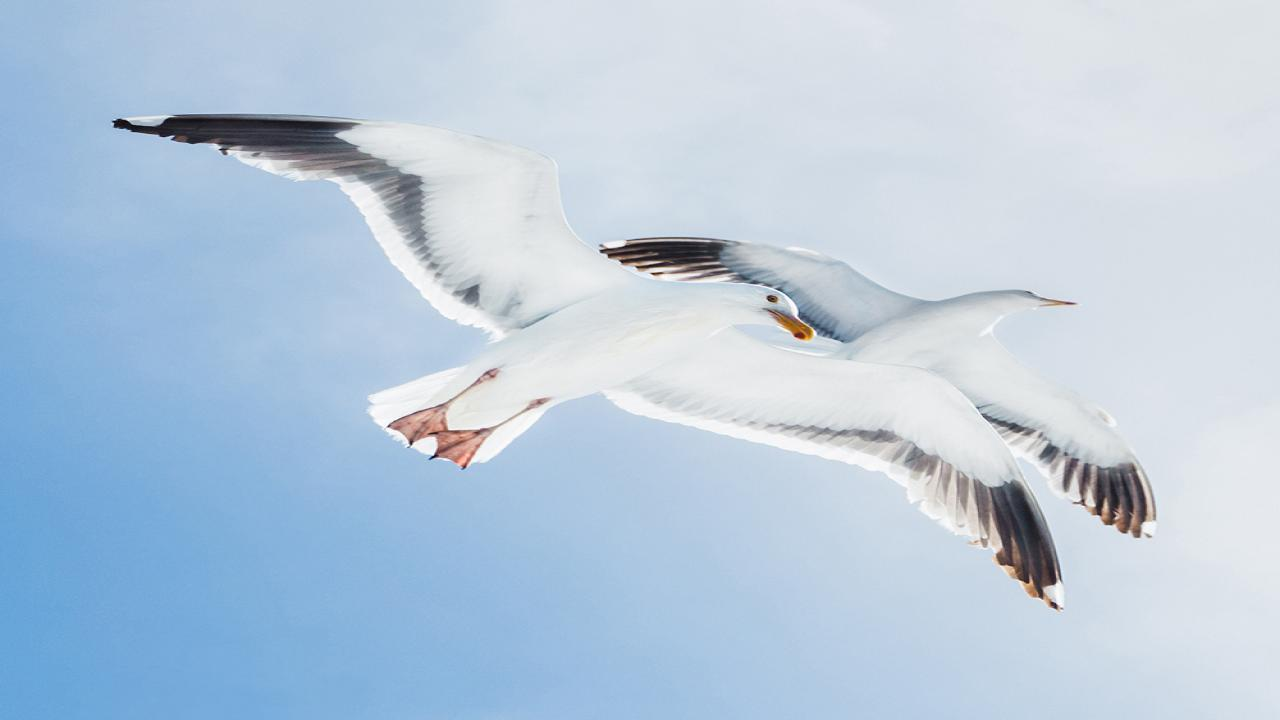Bird: (88, 102, 1082, 627), (571, 219, 1167, 562)
